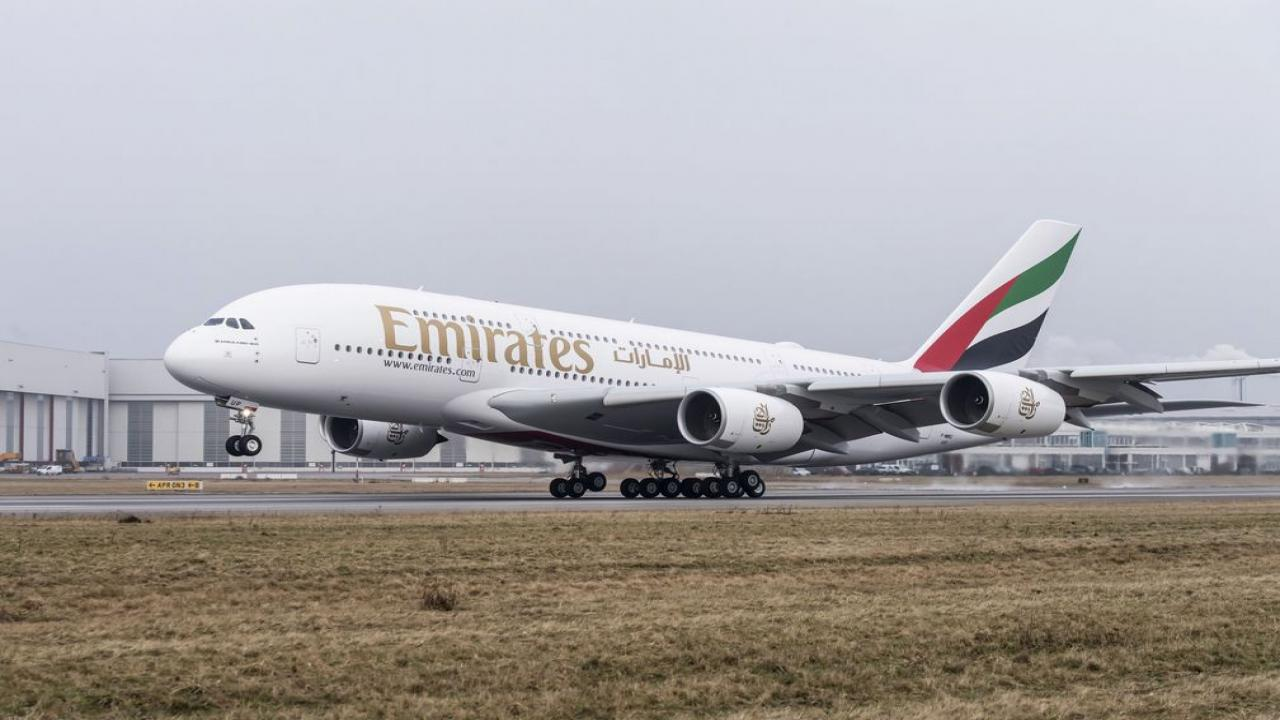Airplane: (150, 208, 1280, 514)
